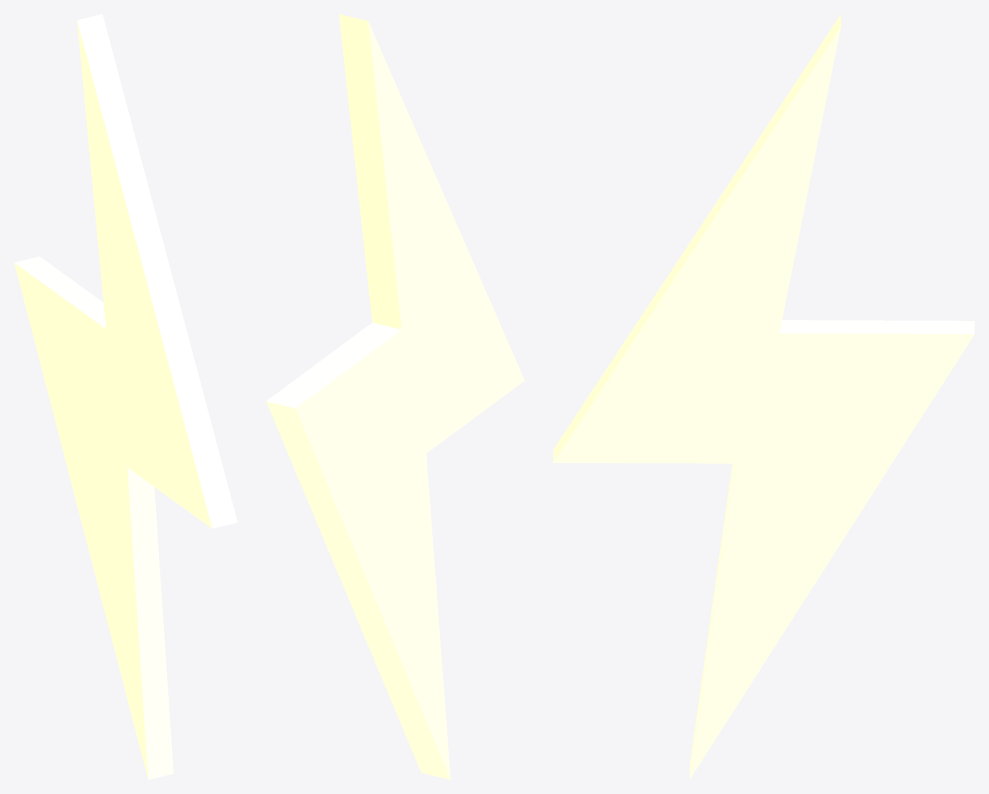
Rendered from volt.fbx.
3 renders of one model, left to right at view 1: azimuth 30°, elevation 25°; view 2: azimuth 150°, elevation 25°; view 3: azimuth 270°, elevation 25°, orthographic. The views are drawn at different scales.
Parts seen in each view (by area): view 1: Plane; view 2: Plane; view 3: Plane.
Boxes of the visible parts, bbox=[...] form: Plane: bbox=[14, 14, 237, 779]; Plane: bbox=[266, 14, 524, 779]; Plane: bbox=[553, 14, 974, 779].
Bounding box in the file's own units: 17.69 × 471 × 239.
